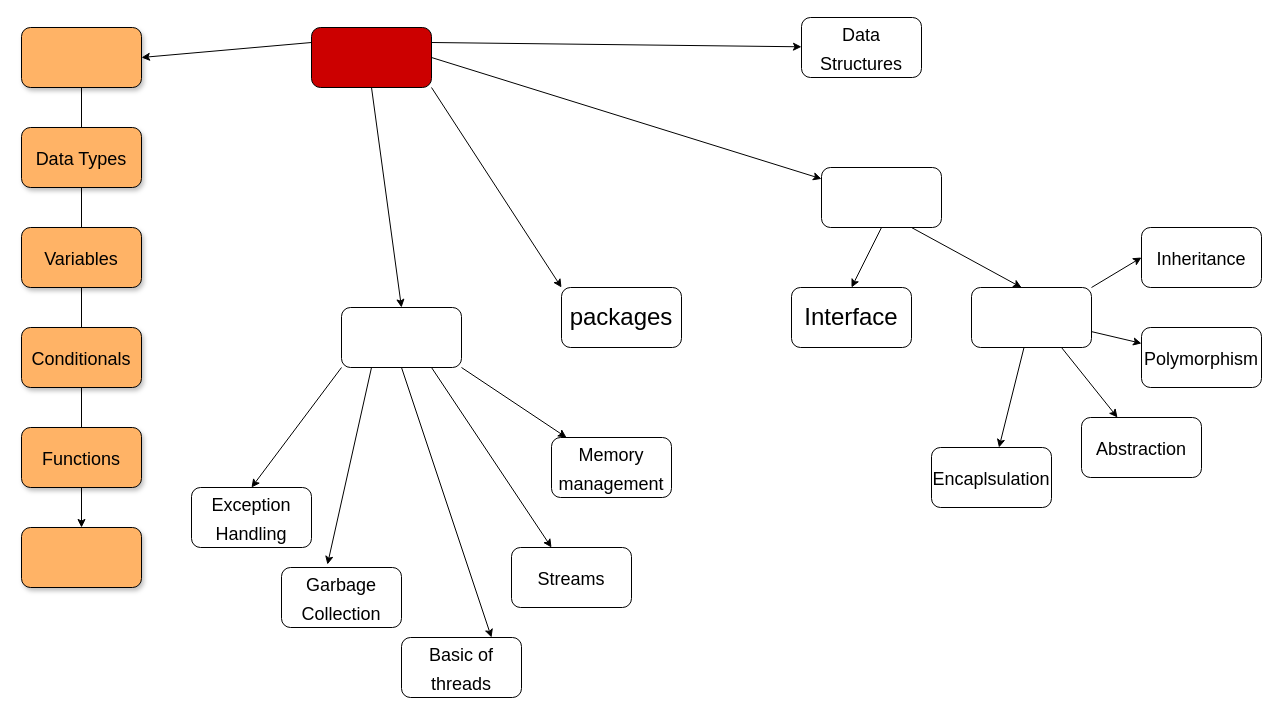
The diagram is 1279 pixels wide and 715 high, and some of its shapes have lost their labels. The centre of each missing label's shape, as x and y in pixels:
"Basic Syntax" goes at point 82,58.
"classes" goes at point 1031,317.
"java" goes at point 371,57.
"Loops" goes at point 82,558.
"oop" goes at point 881,197.
